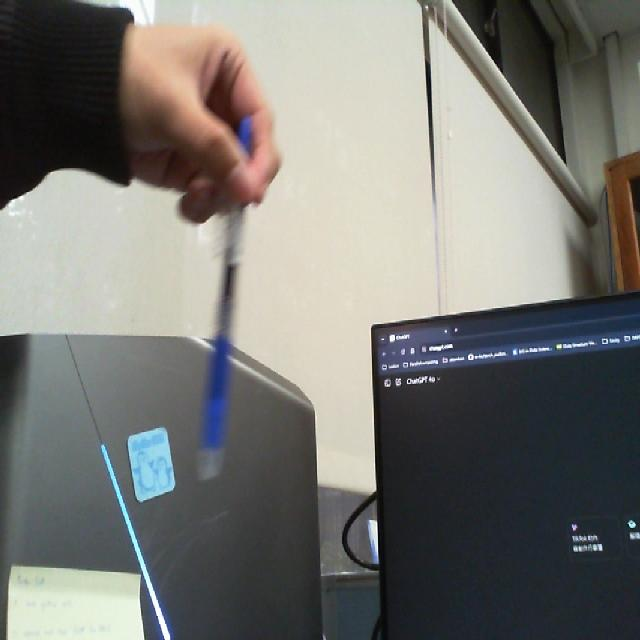Pen: (184, 103, 265, 496)
